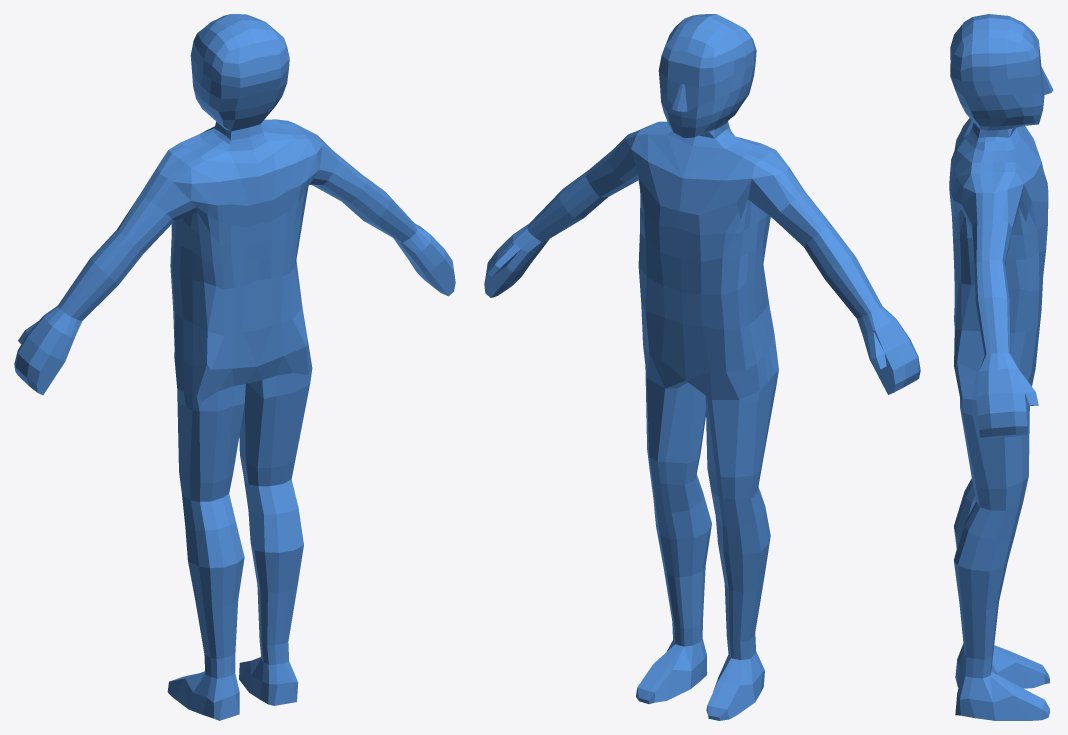
The model's file is blank_npc.glb.
3 views of the same model, side by side, from view 1: azimuth 30°, elevation 25°; view 2: azimuth 150°, elevation 25°; view 3: azimuth 270°, elevation 25° (orthographic).
Visible parts, largest first — view 1: Mesh; view 2: Mesh; view 3: Mesh.
Part boxes in pixels (x1,y1,x2,y2): Mesh: [14, 14, 455, 720]; Mesh: [484, 14, 920, 720]; Mesh: [949, 14, 1053, 720].
Bounding box in the file's own units: 1.58 × 2.41 × 0.3344.
